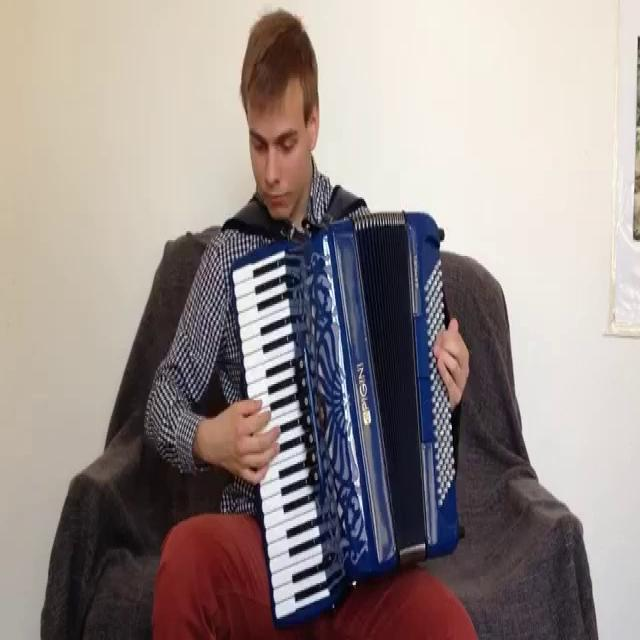Accordion: (225, 229, 471, 612)
